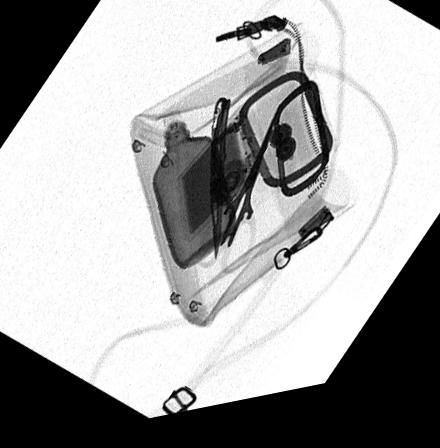Knife: (206, 101, 234, 268)
Powerbank: (173, 106, 276, 251)
Scissors: (192, 105, 286, 284)
